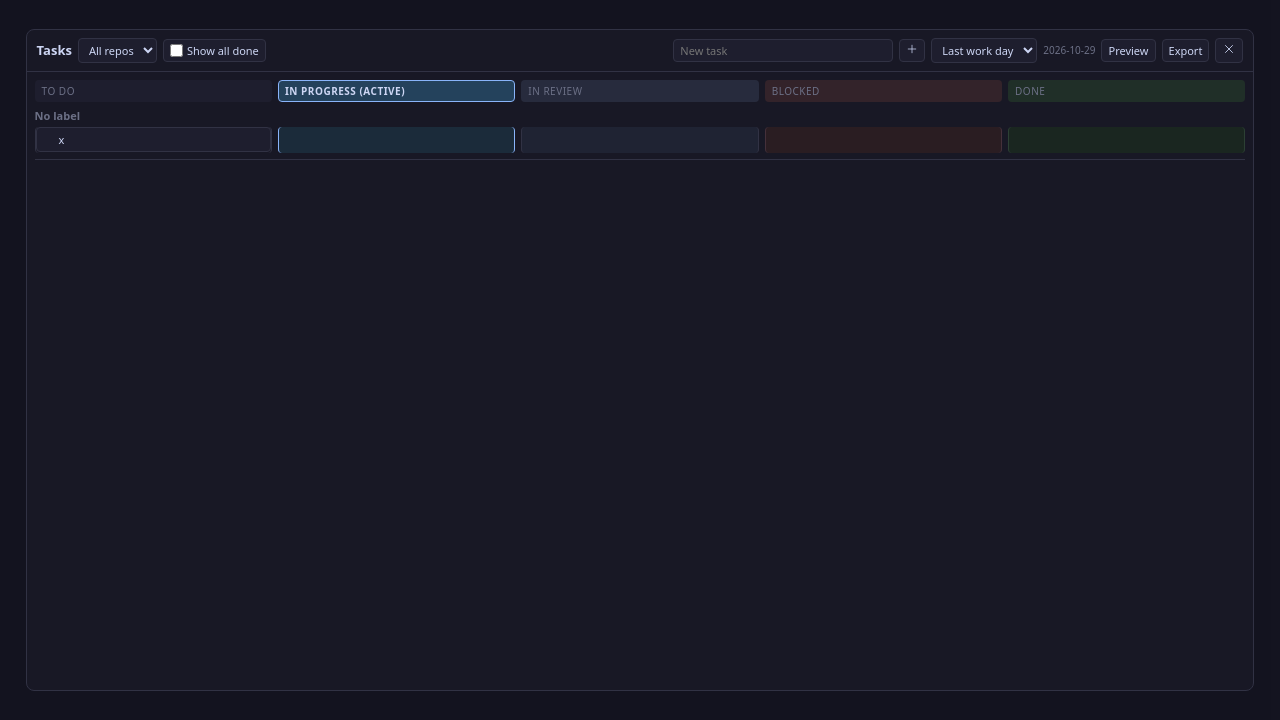
Test case: the activity feed is scoped to today › still shows a note the moment it is logged
Expected: the text "x" is shown, [59,132,64,147]
Click the button "x": [153, 139] box [36,127,271,152]
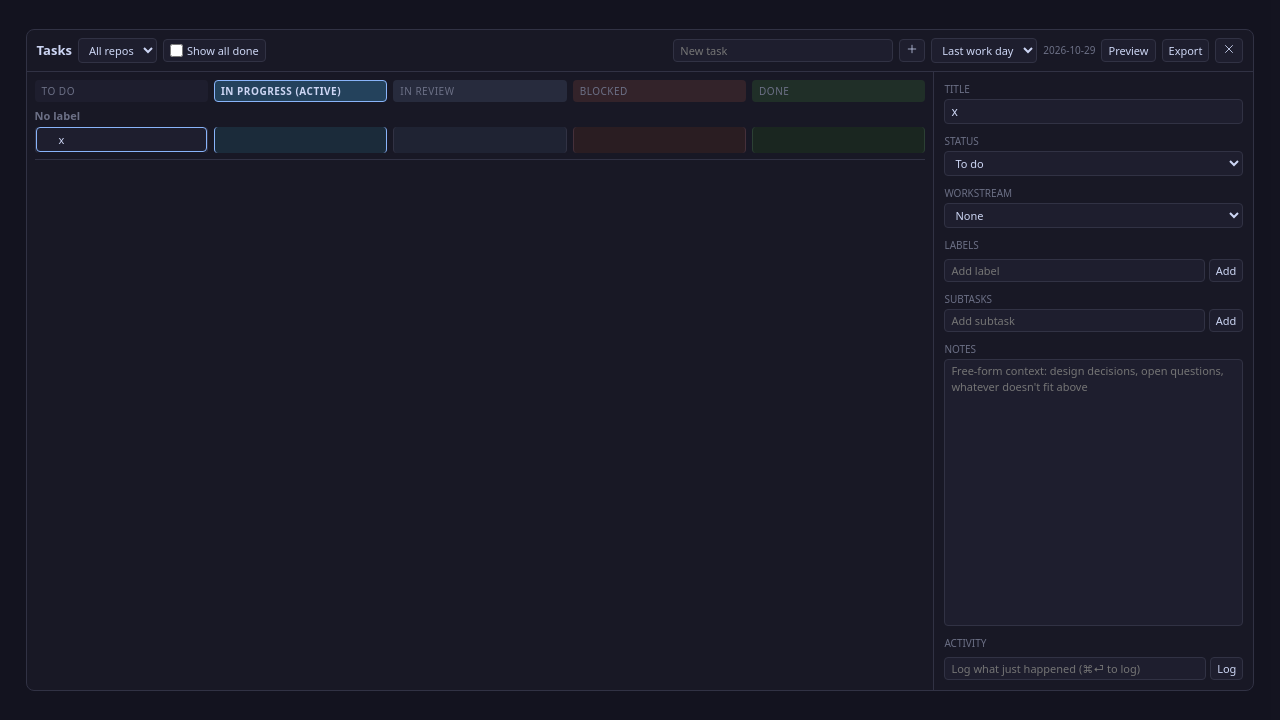
In the text box with test id "log-input": [1075, 668] box [944,657,1206,680], type "just now"
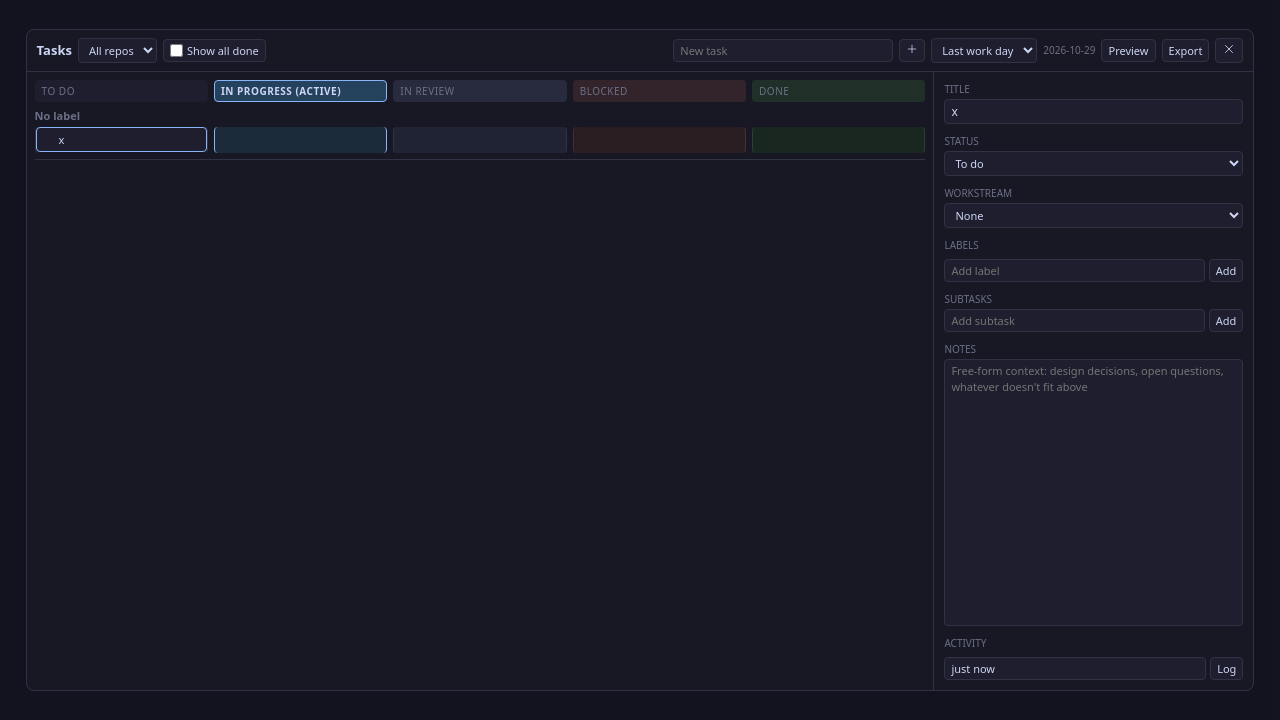
Click the button with test id "log-submit": [1227, 668] box [1210,657,1243,680]
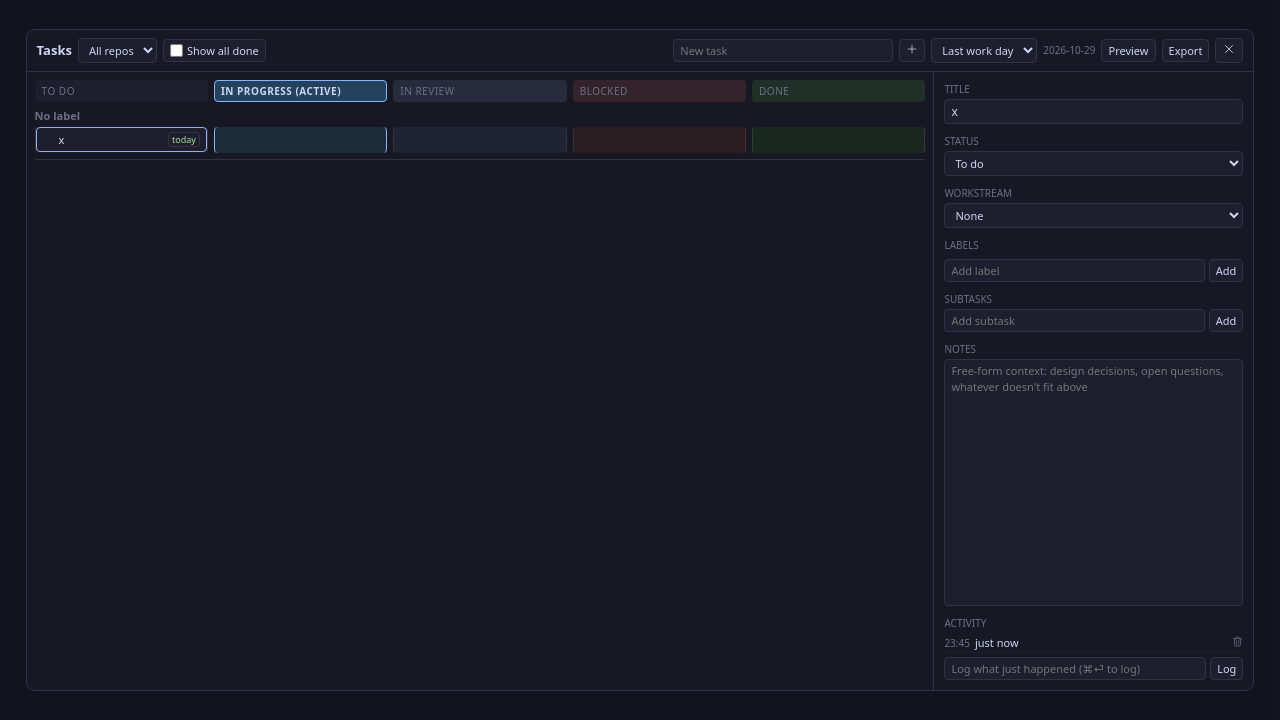
Expected: the element with test id "event-feed" shows "just now", [975,635,1019,650]
